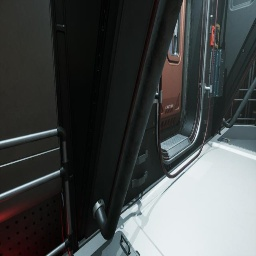EmergencyPhone ,: (215, 16, 220, 49)
FireAlarm ,: (210, 26, 215, 47)
